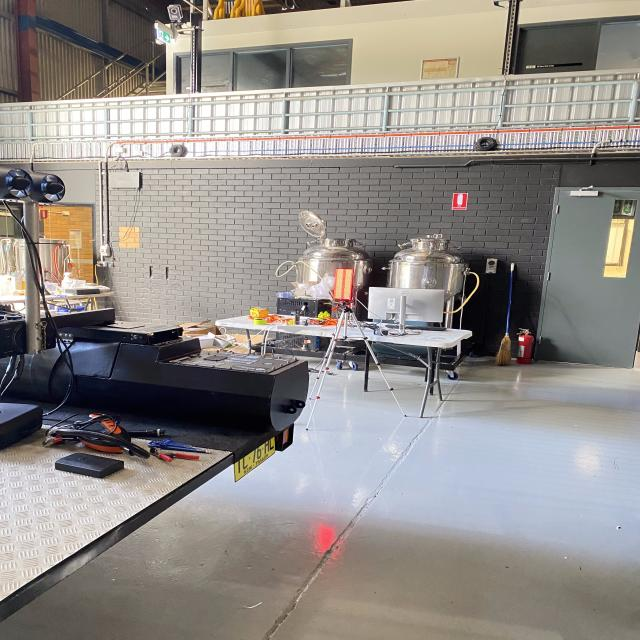matrix: (329, 264, 358, 302)
